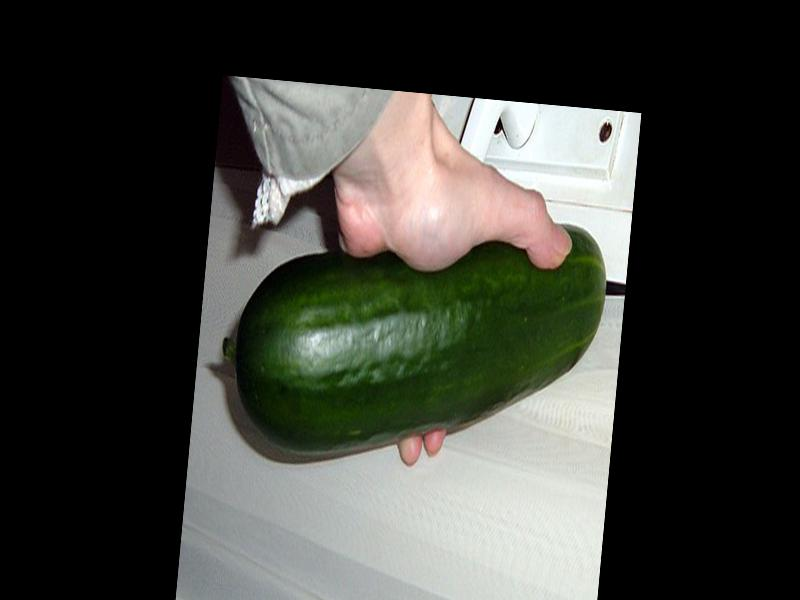Cucumber: (211, 196, 611, 489)
